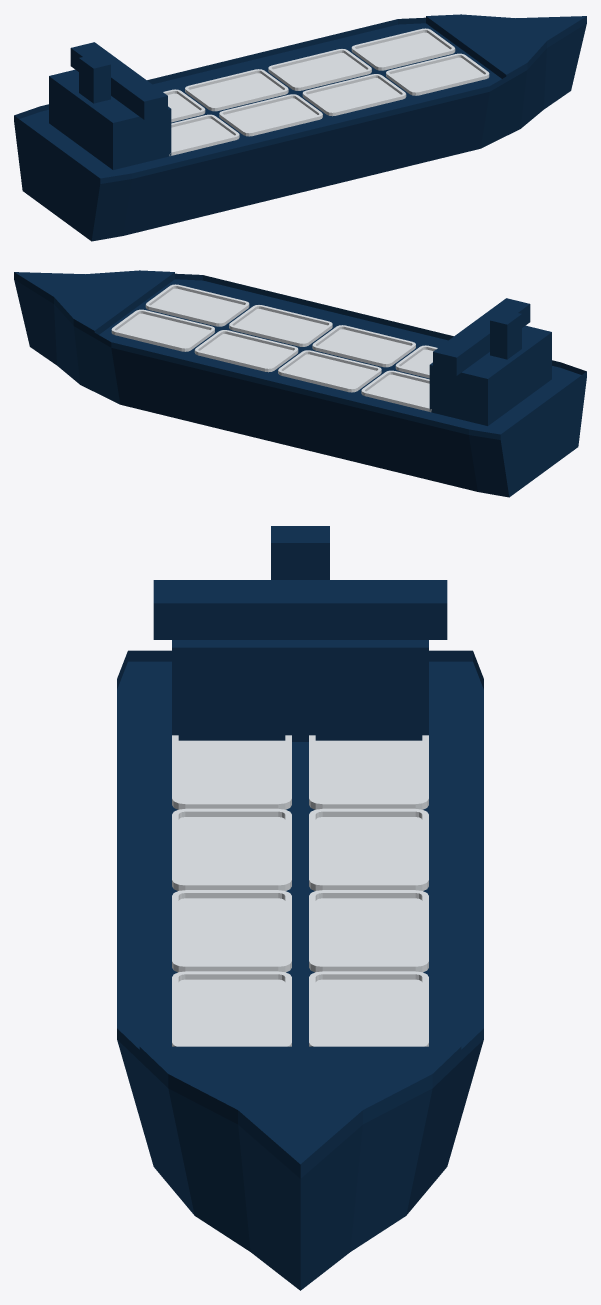
File: vessel-tank-08.glb
The picture shows the model from 3 angles, top to bottom: view 1: azimuth 30°, elevation 25°; view 2: azimuth 150°, elevation 25°; view 3: azimuth 270°, elevation 25°; orthographic projection. The views are drawn at different scales.
Parts seen in each view (by area): view 1: hull, superstructure, detail_forecastle, detail_bulwark, tank_01p, tank_03s, tank_02s, tank_03p, tank_01s, tank_02p, tank_04s, detail_funnel (+1 smaller); view 2: hull, superstructure, detail_forecastle, detail_bulwark, tank_01s, tank_03p, tank_02p, tank_03s, tank_01p, tank_02s, tank_04p, detail_funnel (+1 smaller); view 3: hull, superstructure, detail_forecastle, tank_02p, tank_02s, tank_03p, tank_03s, tank_01p, tank_01s, tank_04p, tank_04s, detail_bulwark (+1 smaller).
Part boxes in pixels (x1=…): hull: x1=14, y1=23, x2=586, y2=241; superstructure: x1=49, y1=42, x2=171, y2=169; detail_forecastle: x1=426, y1=14, x2=586, y2=81; detail_bulwark: x1=14, y1=17, x2=586, y2=183; tank_01p: x1=351, y1=28, x2=455, y2=70; tank_03s: x1=219, y1=94, x2=322, y2=136; tank_02s: x1=302, y1=74, x2=406, y2=116; tank_03p: x1=185, y1=69, x2=288, y2=111; tank_01s: x1=386, y1=53, x2=489, y2=95; tank_02p: x1=268, y1=49, x2=371, y2=90; tank_04s: x1=169, y1=114, x2=239, y2=155; detail_funnel: x1=79, y1=53, x2=110, y2=103; hull: x1=14, y1=279, x2=586, y2=497; superstructure: x1=429, y1=298, x2=551, y2=425; detail_forecastle: x1=14, y1=270, x2=174, y2=337; detail_bulwark: x1=14, y1=273, x2=586, y2=439; tank_01s: x1=145, y1=284, x2=249, y2=326; tank_03p: x1=278, y1=350, x2=381, y2=392; tank_02p: x1=194, y1=330, x2=298, y2=372; tank_03s: x1=312, y1=325, x2=415, y2=367; tank_01p: x1=111, y1=309, x2=214, y2=351; tank_02s: x1=229, y1=305, x2=332, y2=346; tank_04p: x1=361, y1=370, x2=431, y2=412; detail_funnel: x1=490, y1=309, x2=521, y2=359; hull: x1=117, y1=661, x2=483, y2=1290; superstructure: x1=153, y1=580, x2=447, y2=741; detail_forecastle: x1=139, y1=1046, x2=461, y2=1176; tank_02p: x1=309, y1=890, x2=428, y2=972; tank_02s: x1=172, y1=890, x2=291, y2=972; tank_03p: x1=309, y1=808, x2=428, y2=890; tank_03s: x1=172, y1=808, x2=291, y2=890; tank_01p: x1=309, y1=971, x2=428, y2=1046; tank_01s: x1=172, y1=971, x2=291, y2=1046; tank_04p: x1=309, y1=735, x2=428, y2=809; tank_04s: x1=172, y1=735, x2=291, y2=809; detail_bulwark: x1=117, y1=650, x2=483, y2=1178.
Size of the model in its own units: 10 by 2.63 by 3.
